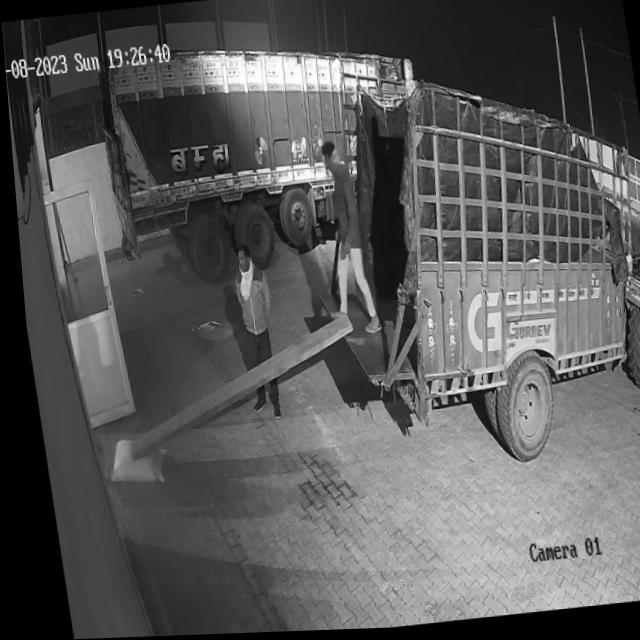sack: (97, 434, 160, 487)
